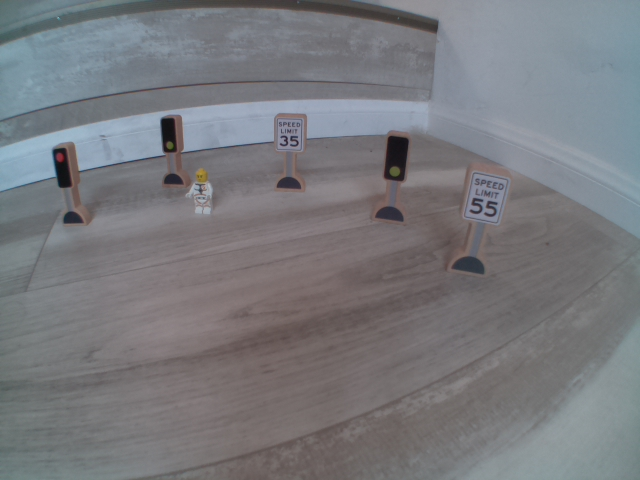Green Traffic Light: (385, 123, 407, 186), (160, 115, 183, 155)
Red Traffic Light: (46, 143, 82, 188)
Speed Limit 35: (272, 114, 305, 153)
Speed Limit 55: (461, 158, 509, 229)
person: (177, 164, 230, 222)
